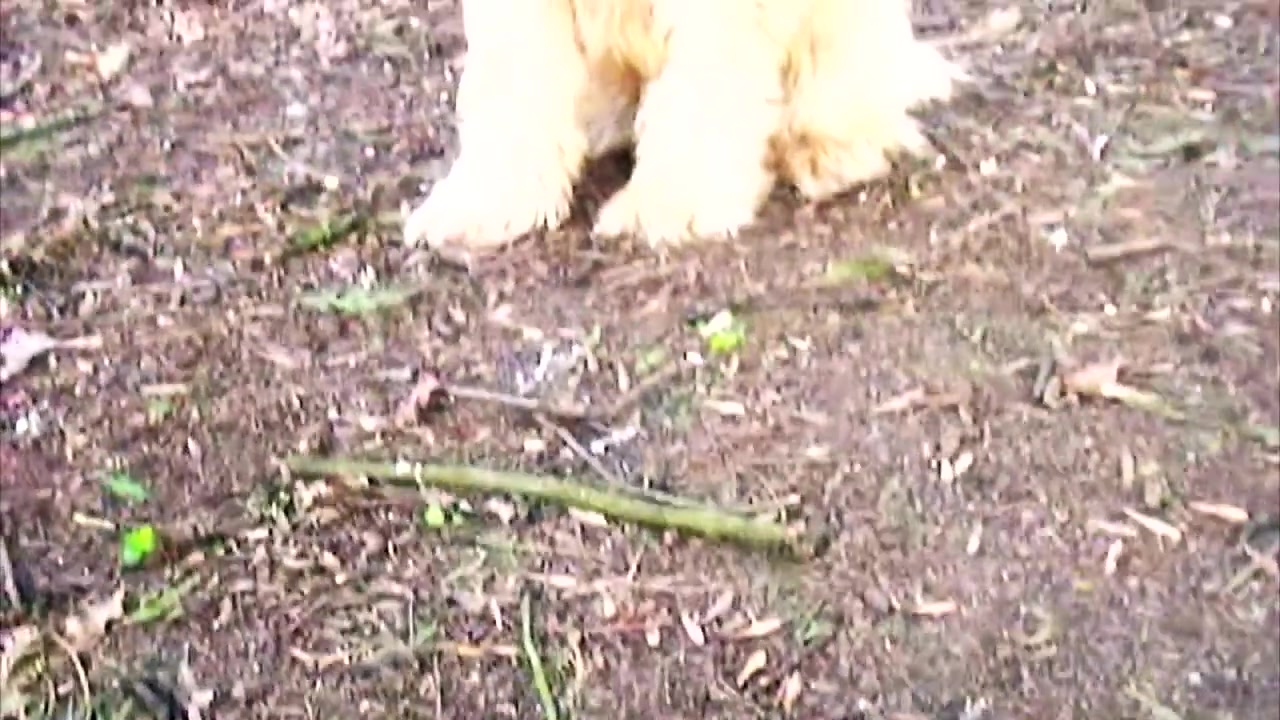dog: (404, 1, 976, 264)
